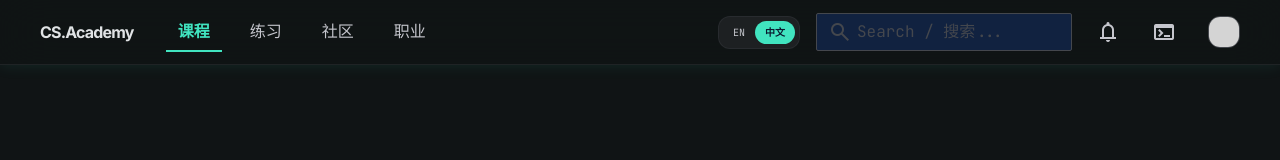
Test: Navbar Component › switches languages when EN/中文 buttons are clicked
Note: Click EN button
Click the button "EN".
click(739, 32)  # box [723,20,755,44]
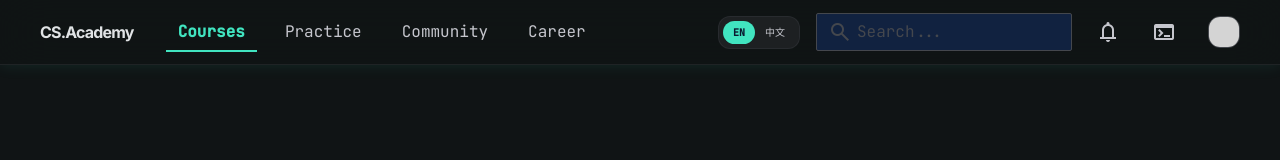
Expected: the link "Courses" is shown, [166,12,257,52]
Now the link "Practice" is shown, box [285,21,362,42]
Now the link "Community" is shown, box [402,21,488,42]
Note: Click 中文 button
Click the button "中文".
click(775, 32)  # box [755,20,795,44]
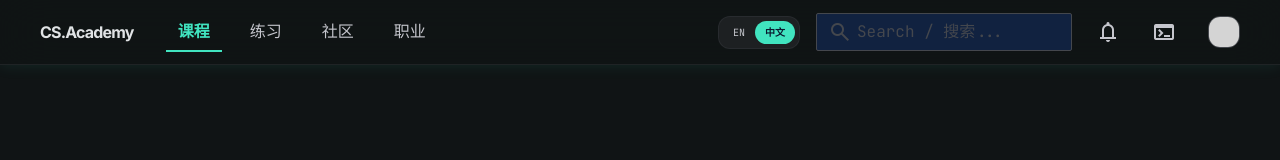
Now the link "课程" is shown, box [166,12,222,52]
